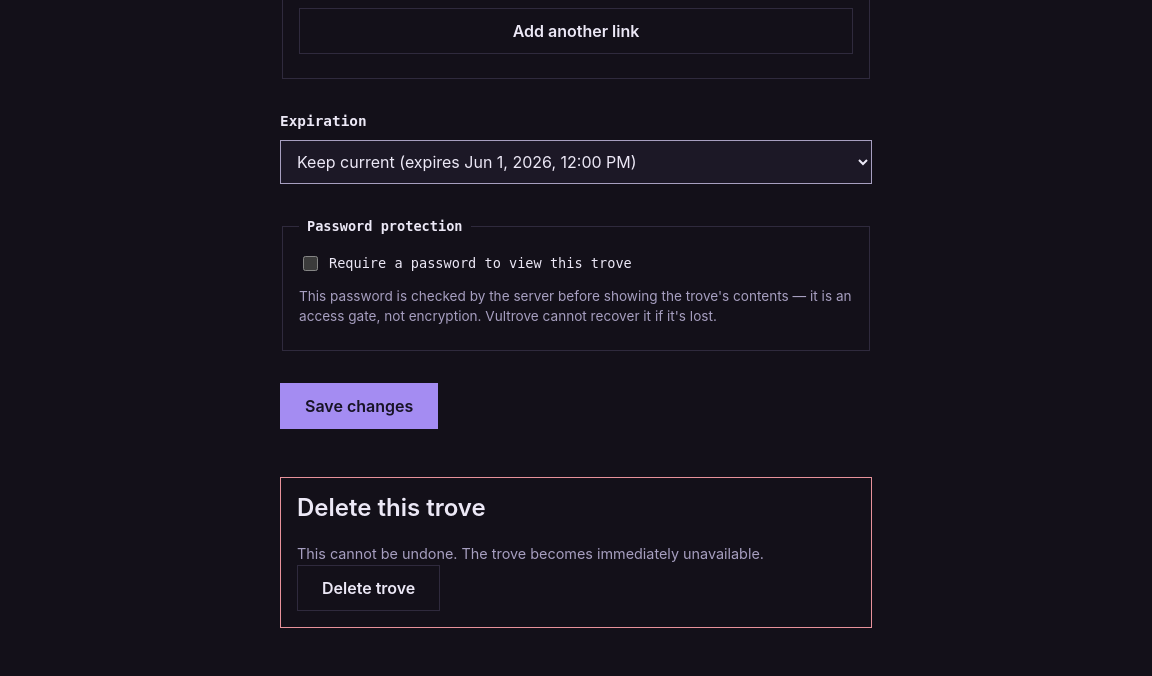
edit › collapses a 401 during PATCH to the generic invalid-link state
(page scrolled)
Click the button "Save changes".
click(359, 406)  # box [280, 383, 438, 429]
(page scrolled)
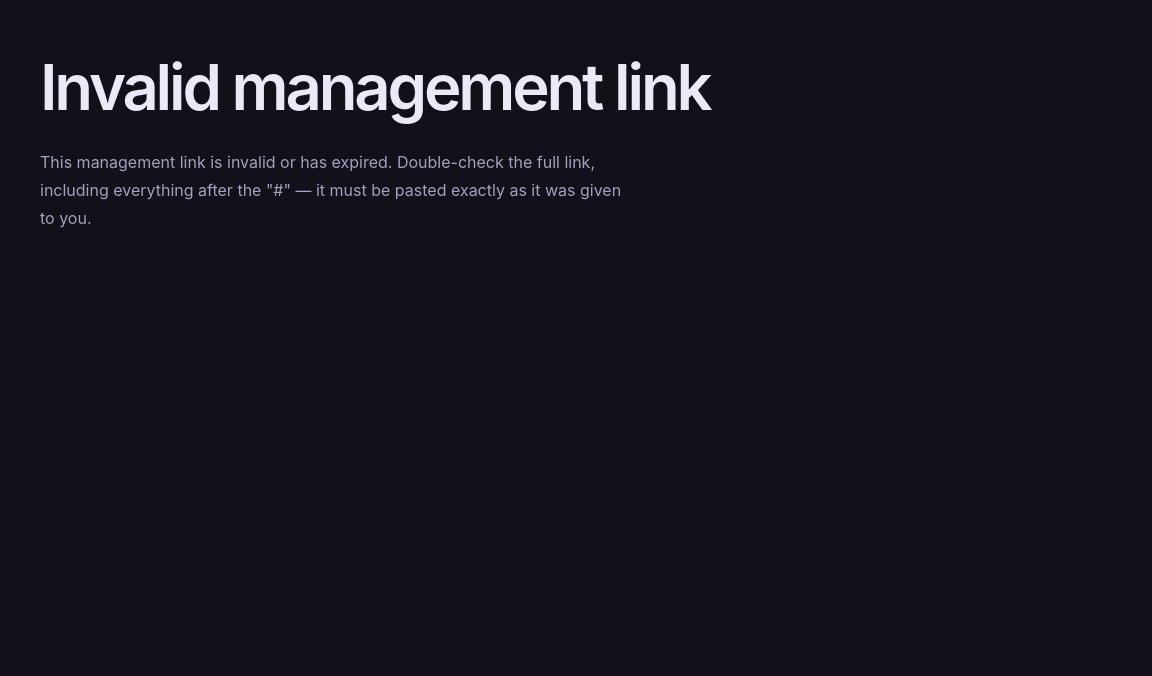
Result: the text "invalid or has expired" is shown at [40, 152, 621, 228]
